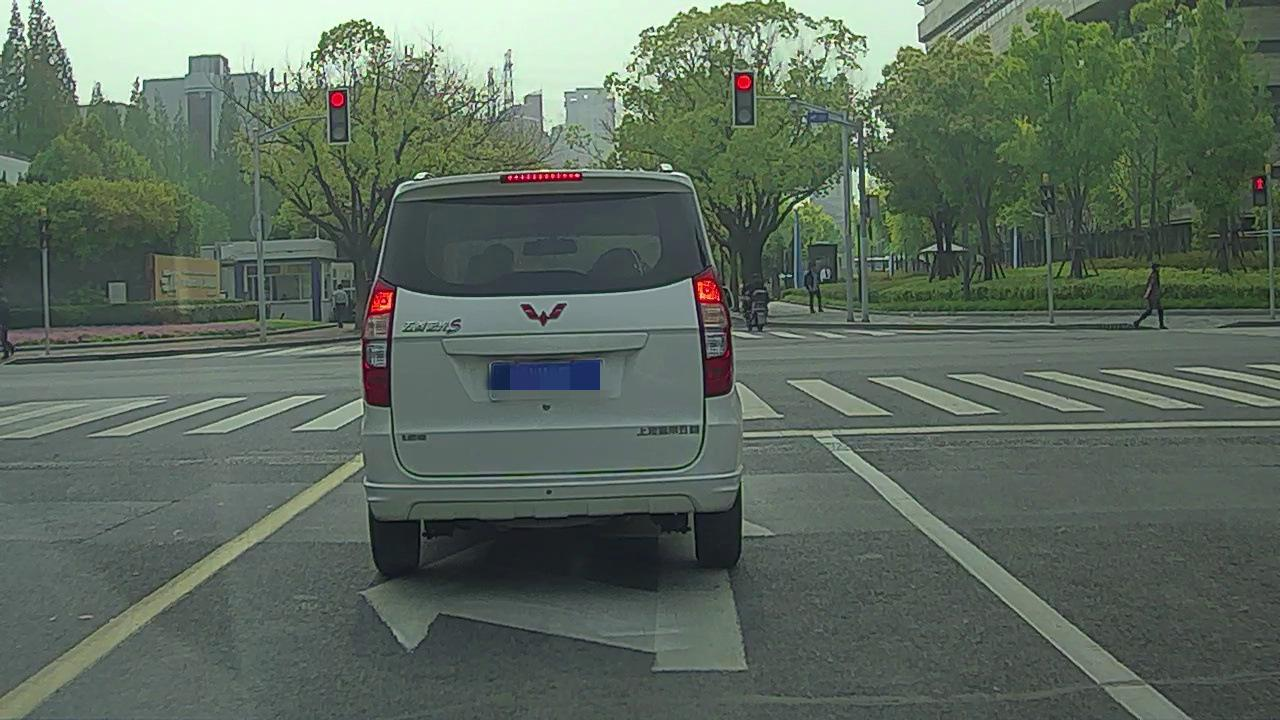traffic_light: (735, 70, 755, 127), (330, 88, 349, 143)
